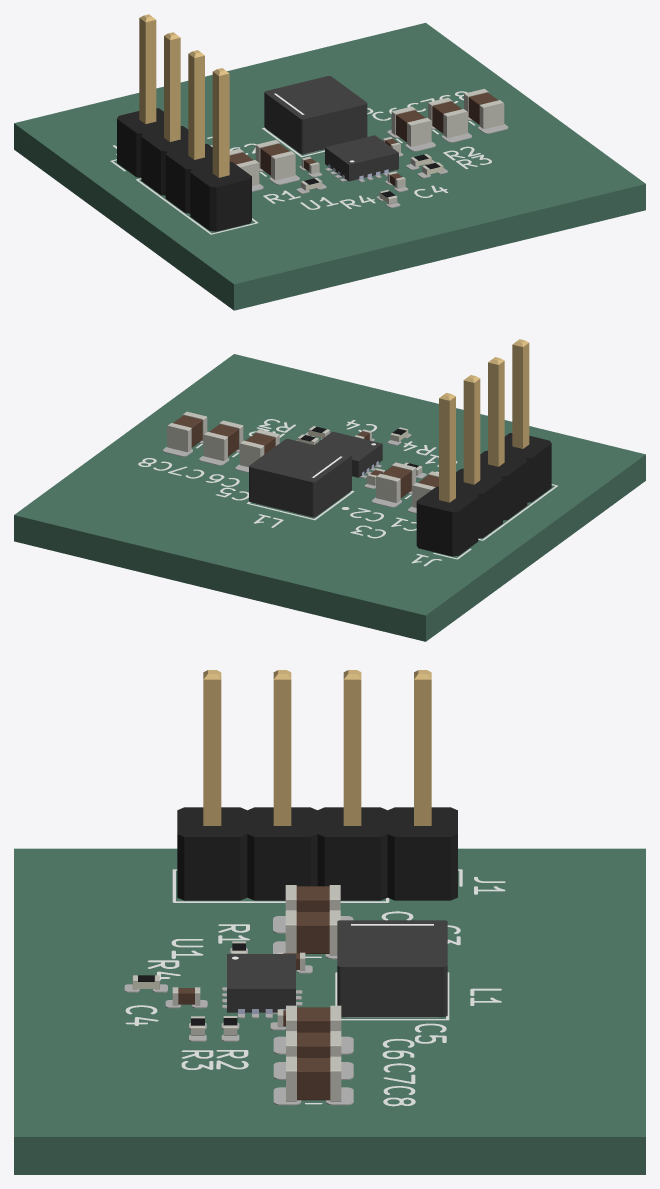
Rendered from assembly.glb.
3 renders of one model, top to bottom at view 1: azimuth 30°, elevation 25°; view 2: azimuth 150°, elevation 25°; view 3: azimuth 270°, elevation 25°, orthographic. The views are drawn at different scales.
Visible parts, largest first — view 1: =>[0:1:1:10], J1, L1, U1, =>[0:1:1:9], =>[0:1:1:8], C6, C2, C8, C7, C1; view 2: =>[0:1:1:10], J1, L1, =>[0:1:1:9], U1, C8, C7, C2, =>[0:1:1:8], C6, C1; view 3: =>[0:1:1:10], J1, L1, =>[0:1:1:9], U1, =>[0:1:1:8], C8, C2, C7, C6, C1.
Part boxes in pixels (left/top/right/bottom): =>[0:1:1:10]: left=14, top=23, right=645, bottom=310; J1: left=117, top=14, right=251, bottom=231; L1: left=264, top=76, right=367, bottom=154; U1: left=325, top=135, right=398, bottom=181; =>[0:1:1:9]: left=110, top=91, right=491, bottom=234; =>[0:1:1:8]: left=252, top=118, right=508, bottom=207; C6: left=391, top=106, right=431, bottom=146; C2: left=255, top=140, right=295, bottom=180; C8: left=464, top=88, right=504, bottom=129; C7: left=428, top=97, right=467, bottom=138; C1: left=229, top=148, right=259, bottom=185; =>[0:1:1:10]: left=14, top=354, right=645, bottom=641; J1: left=416, top=339, right=551, bottom=556; L1: left=249, top=439, right=351, bottom=517; =>[0:1:1:9]: left=138, top=419, right=557, bottom=566; U1: left=314, top=431, right=382, bottom=477; C8: left=167, top=411, right=207, bottom=452; C7: left=203, top=420, right=243, bottom=460; C2: left=376, top=462, right=415, bottom=502; =>[0:1:1:8]: left=163, top=432, right=426, bottom=517; C6: left=239, top=429, right=279, bottom=467; C1: left=412, top=471, right=438, bottom=507; =>[0:1:1:10]: left=14, top=848, right=645, bottom=1174; J1: left=177, top=670, right=457, bottom=900; L1: left=337, top=920, right=447, bottom=1016; =>[0:1:1:9]: left=125, top=869, right=505, bottom=1106; U1: left=227, top=954, right=295, bottom=1013; =>[0:1:1:8]: left=124, top=916, right=439, bottom=1105; C8: left=286, top=1056, right=341, bottom=1101; C2: left=285, top=910, right=340, bottom=955; C7: left=286, top=1031, right=341, bottom=1057; C6: left=286, top=1005, right=341, bottom=1032; C1: left=285, top=885, right=340, bottom=911.
Size of the model in its own units: 0.0247 by 0.0115 by 0.0229.
